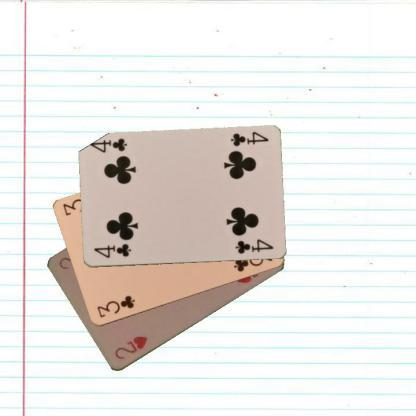2h: (112, 332, 149, 362)
3c: (95, 293, 136, 319)
4c: (228, 129, 270, 148), (92, 242, 132, 260)
